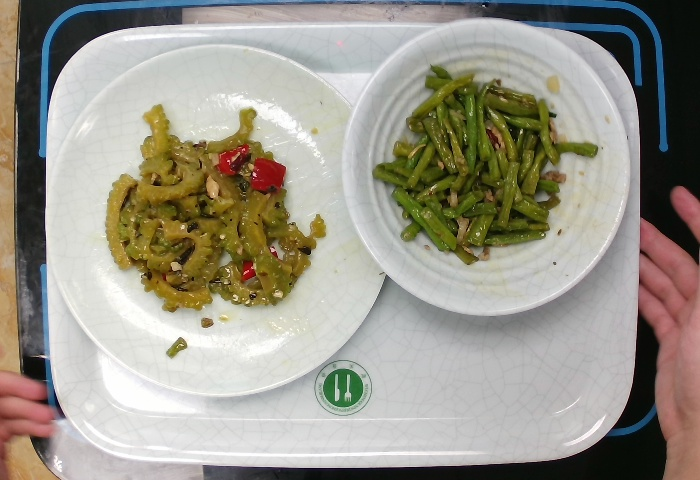JYsf-Da_Yuan_Pan: (42, 48, 402, 394)
JYsf-Xiao_Tang_Wan: (344, 13, 634, 323)
